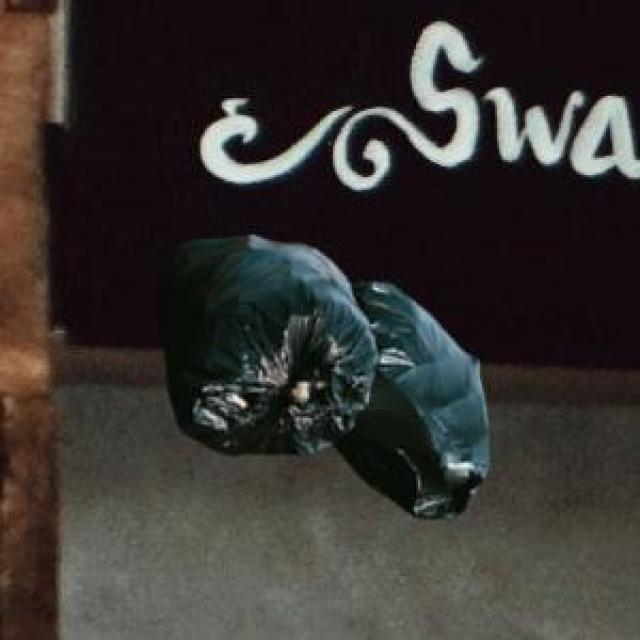Vinyl: (166, 235, 490, 517)
